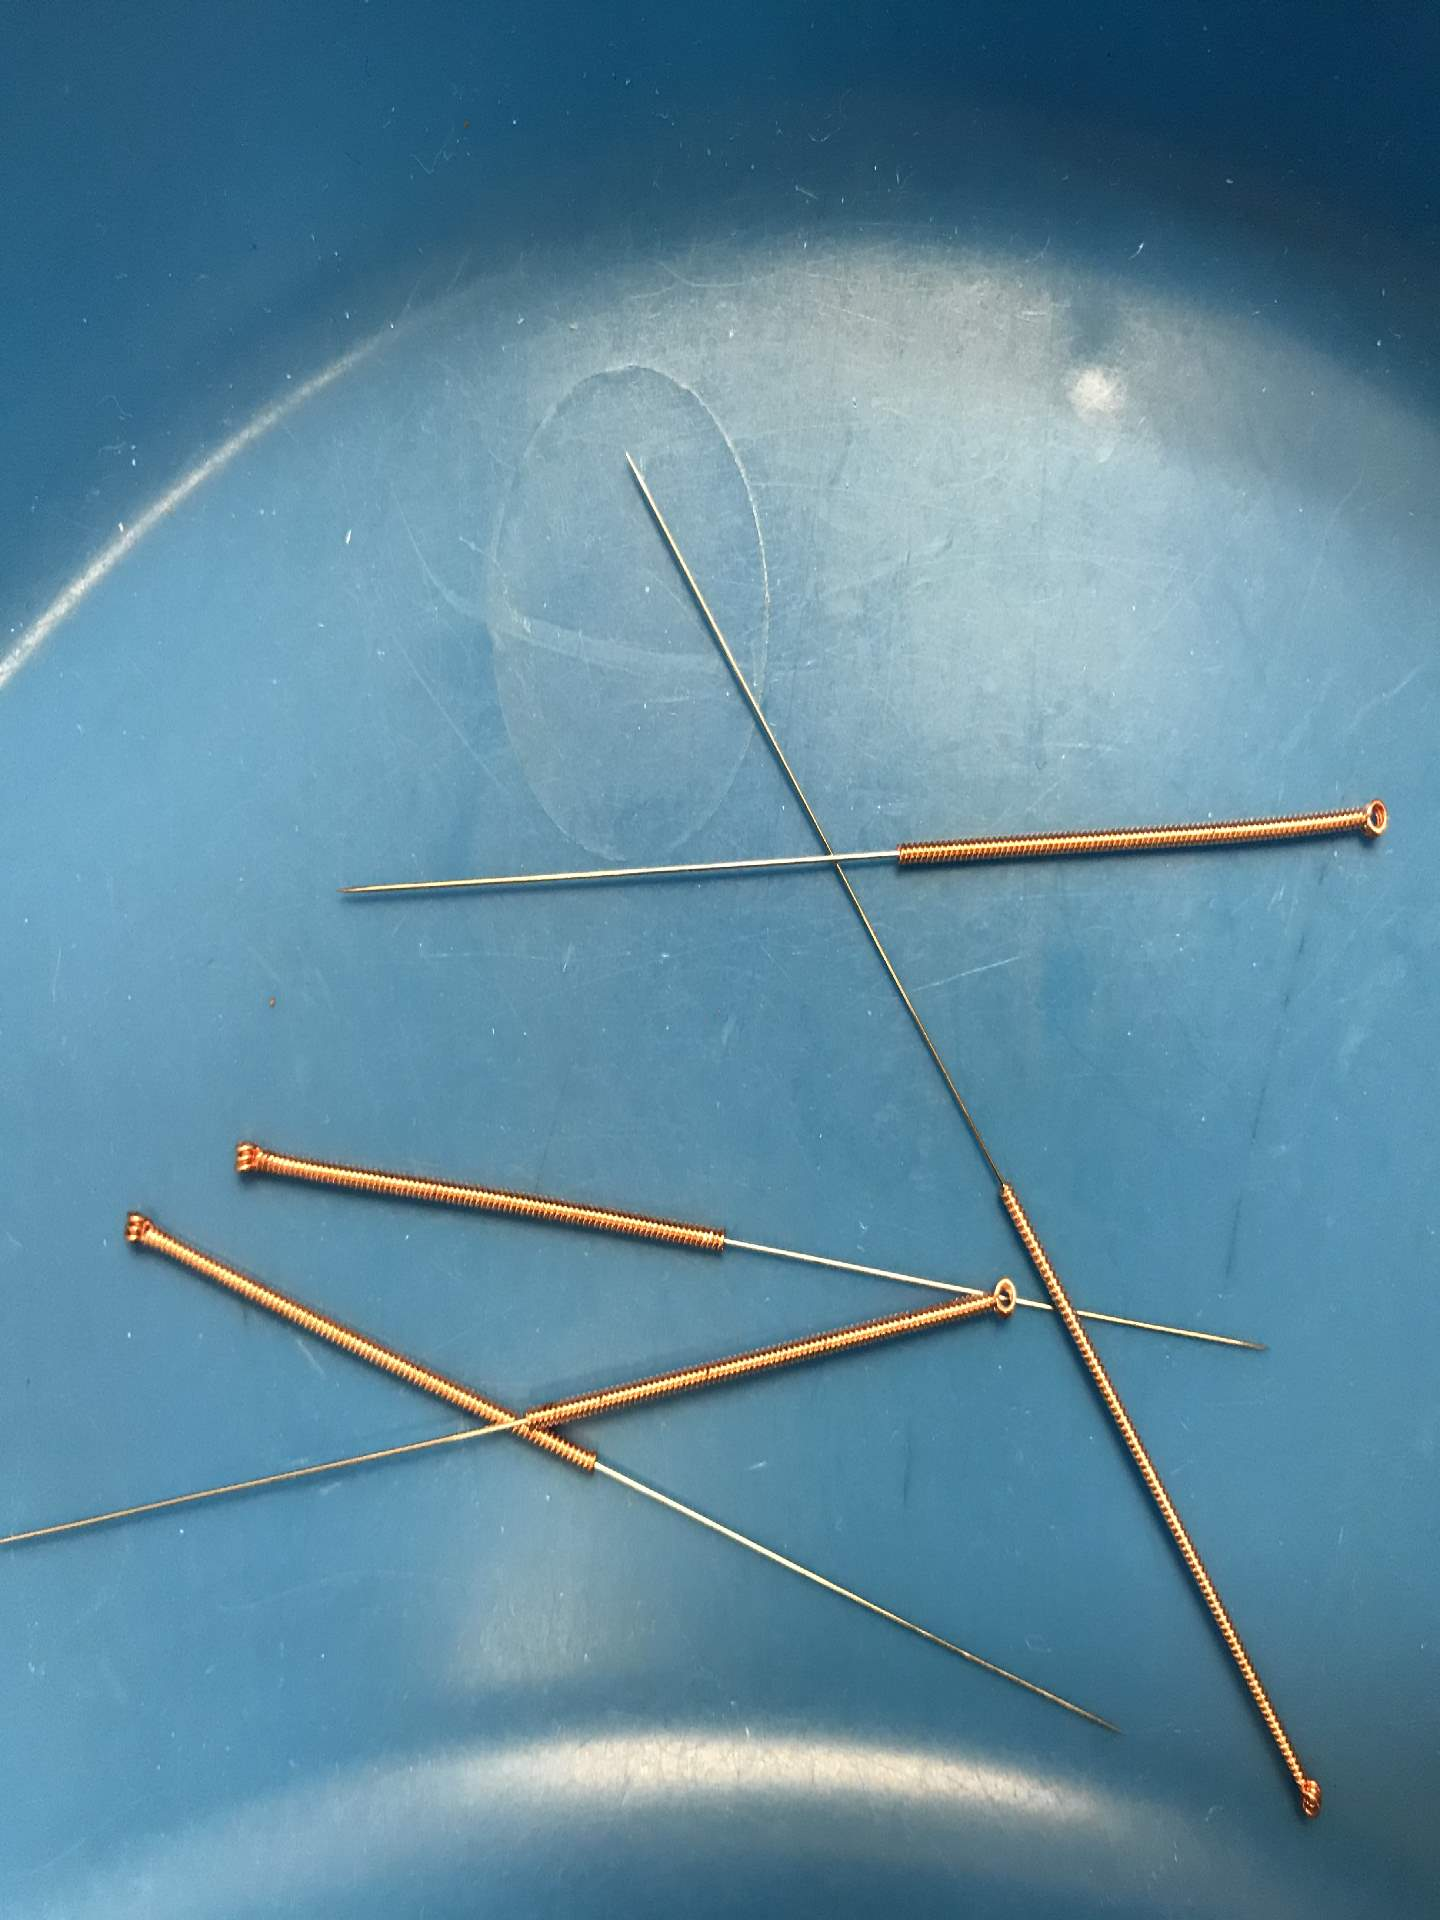needle: (1336, 786, 1402, 856), (213, 1126, 278, 1194), (1277, 1757, 1336, 1831), (104, 1199, 168, 1264), (970, 1265, 1029, 1330)
